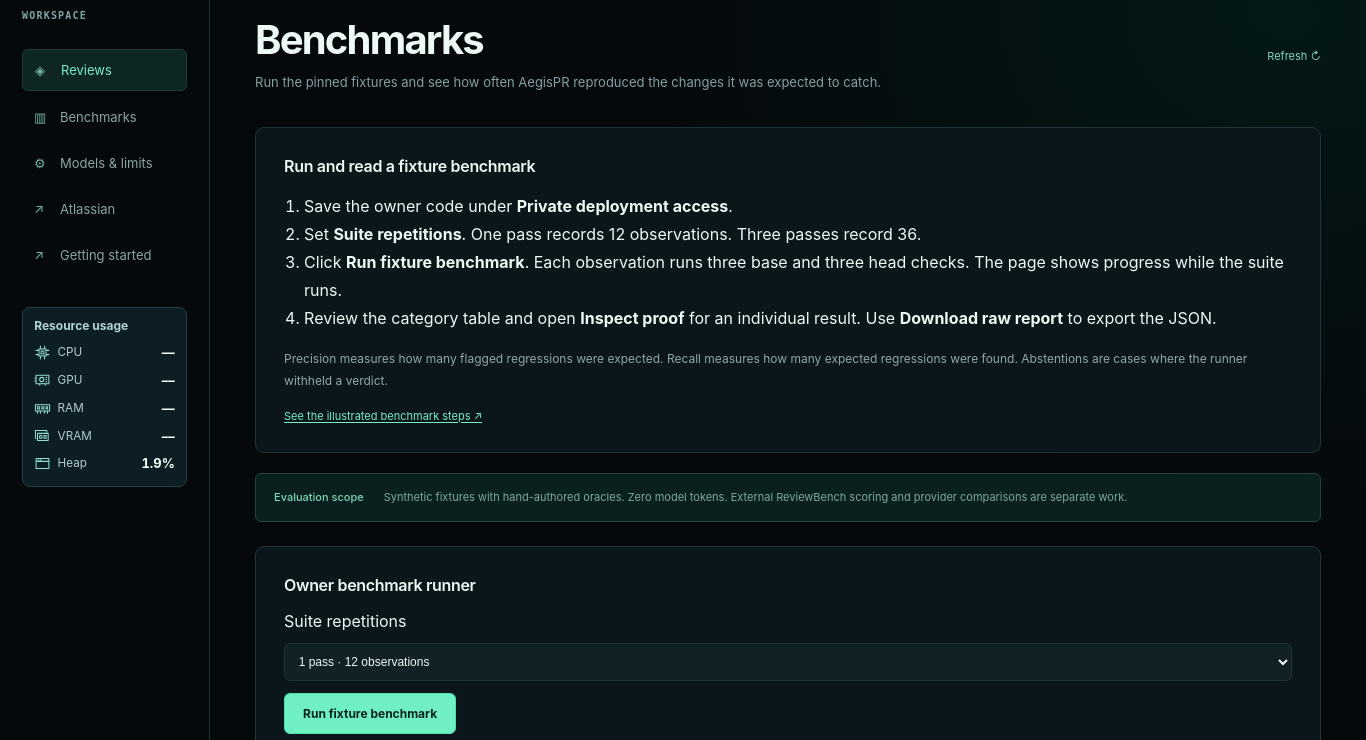
Test case: runs and exports measured fixture benchmark results
Later steps or results of the test are not shown.
Click the button "Run fixture benchmark".
click(370, 713)  # box [284,693,456,734]
(page scrolled)
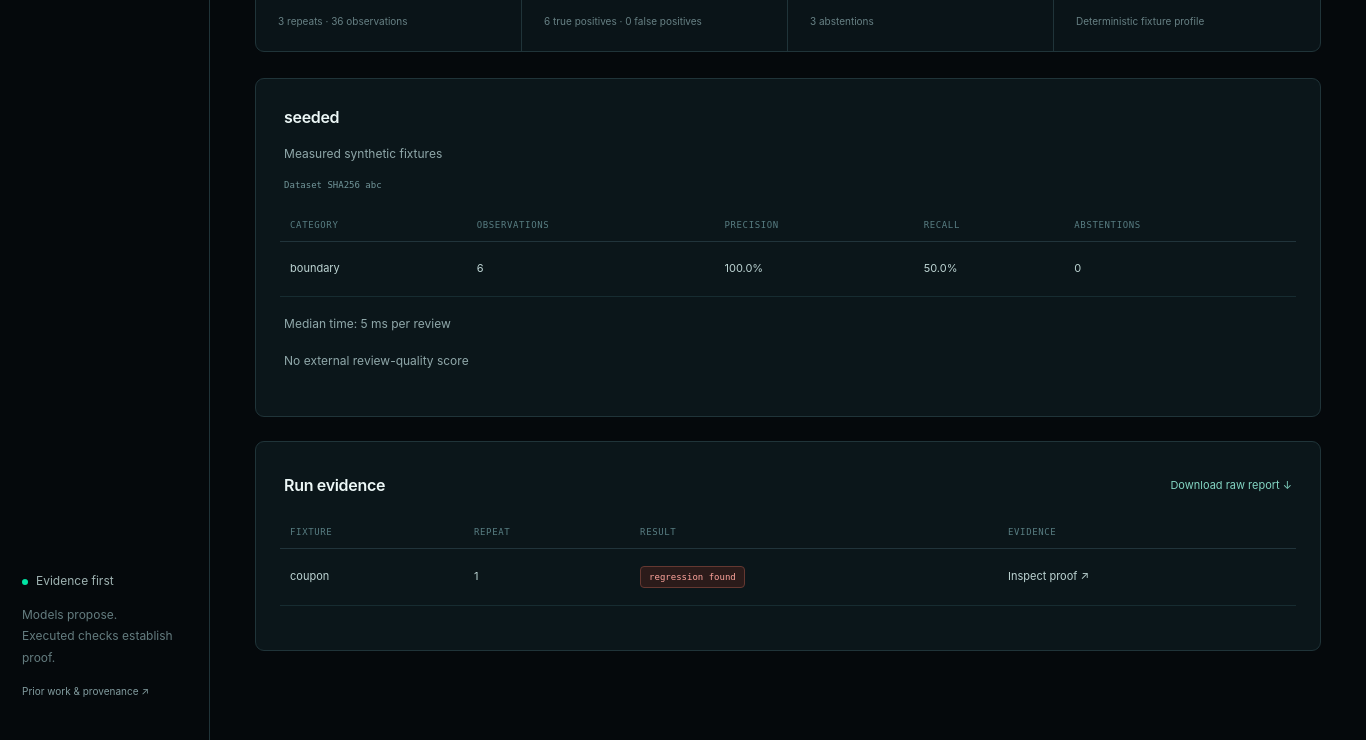
Check: the heading "seeded" is shown, box [284,107,339,127]
